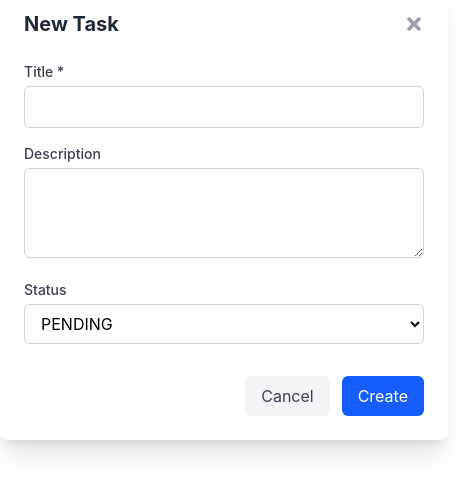
Test case: TaskForm › shows validation error when title is missing
The image size is (464, 498).
Type "This is a test task description." into the text box labelled "Description" at (224, 213), box top-left (24, 168), bottom-right (424, 258)
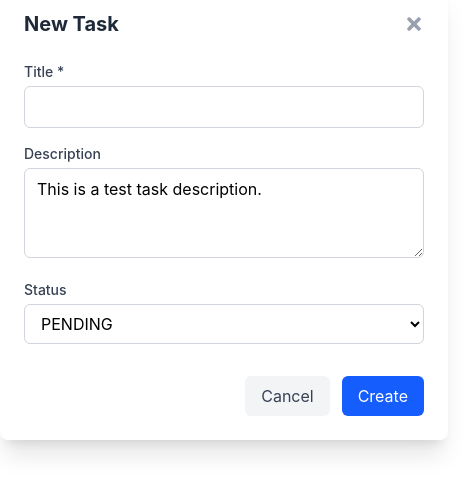
Select "PENDING" in the dropdown labelled "Status" at (224, 324), box top-left (24, 304), bottom-right (424, 344)
Click the button "Create" at (383, 396), box top-left (342, 376), bottom-right (424, 416)
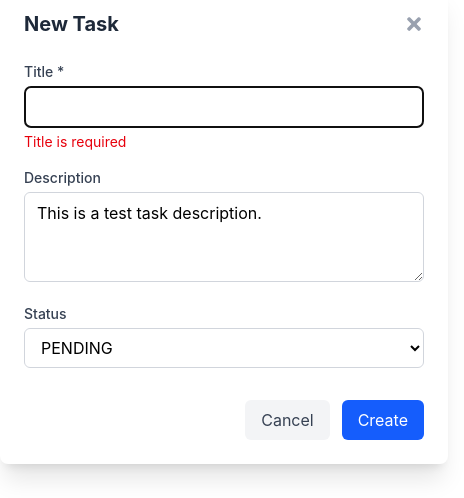
Expected: the text "Title is required" is shown, top-left (24, 133), bottom-right (126, 150)
